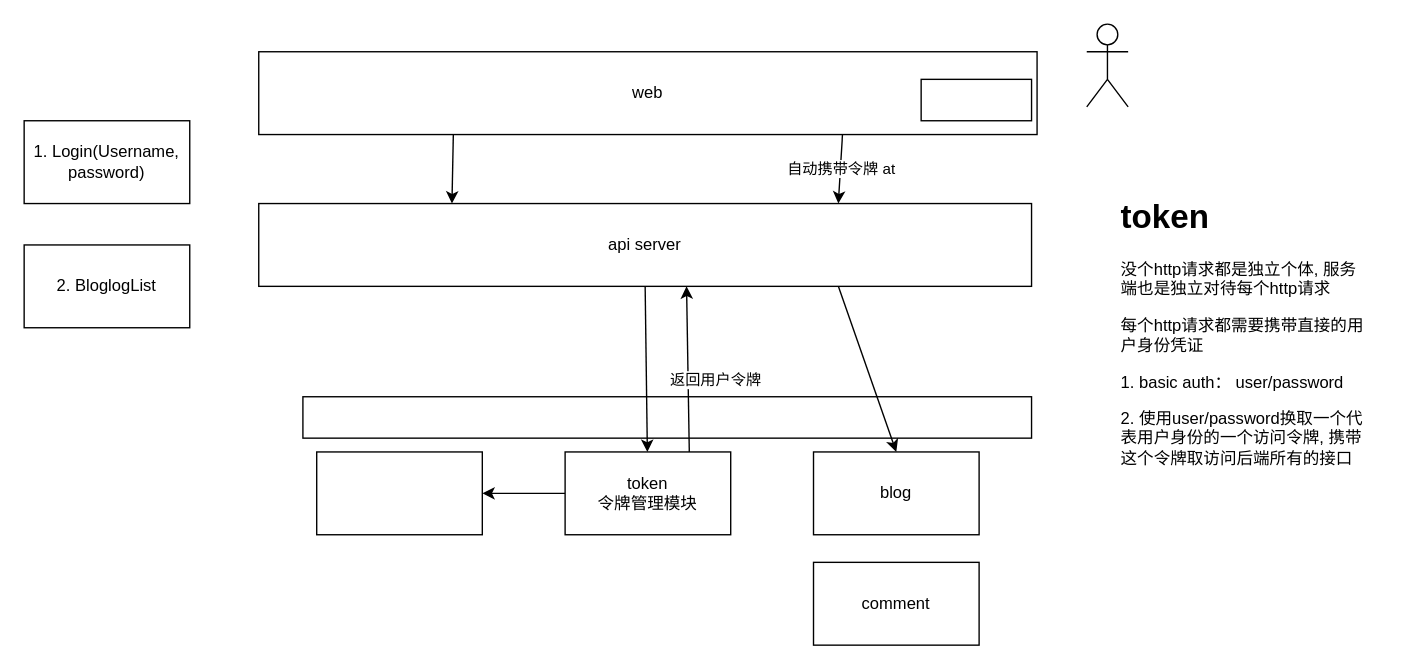
This 1401x669 diagram has some shape labels left out. Here are the shapes that lost their labels. From the top down, the centre of each, then its label:
the point at 1106,65: Actor
the point at 976,99: token at, rt
the point at 667,416: 身份校验层
the point at 398,493: user
